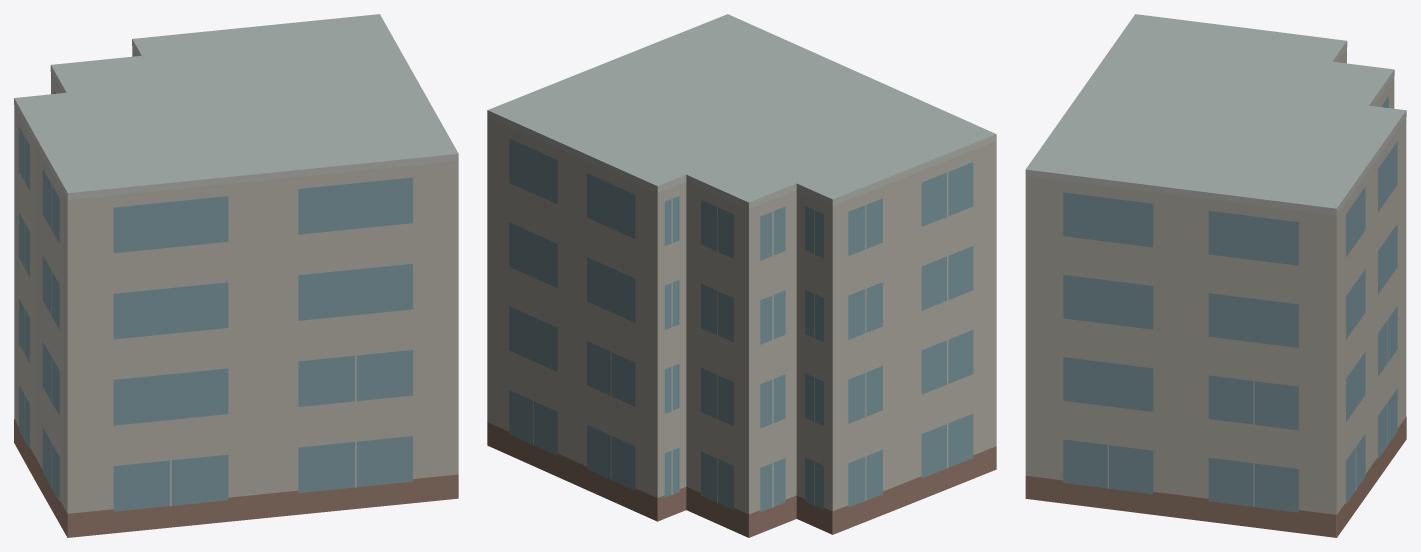
The model's file is residential-2d758da7-f173-4412-aa7a-a537a6265dcd.glb.
The picture shows the model from 3 angles, left to right: view 1: azimuth 30°, elevation 25°; view 2: azimuth 150°, elevation 25°; view 3: azimuth 270°, elevation 25°; orthographic projection. The views are drawn at different scales.
Visible parts, largest first — view 1: residential-2d758da7-f173-4412-aa7a-a537a6265dcd.tmp; view 2: residential-2d758da7-f173-4412-aa7a-a537a6265dcd.tmp; view 3: residential-2d758da7-f173-4412-aa7a-a537a6265dcd.tmp.
Part boxes in pixels (x1,y1,x2,y2): residential-2d758da7-f173-4412-aa7a-a537a6265dcd.tmp: (14, 14, 458, 537); residential-2d758da7-f173-4412-aa7a-a537a6265dcd.tmp: (487, 14, 996, 537); residential-2d758da7-f173-4412-aa7a-a537a6265dcd.tmp: (1025, 14, 1406, 537).
Bounding box in the file's own units: 15.48 × 12.2 × 12.8.
